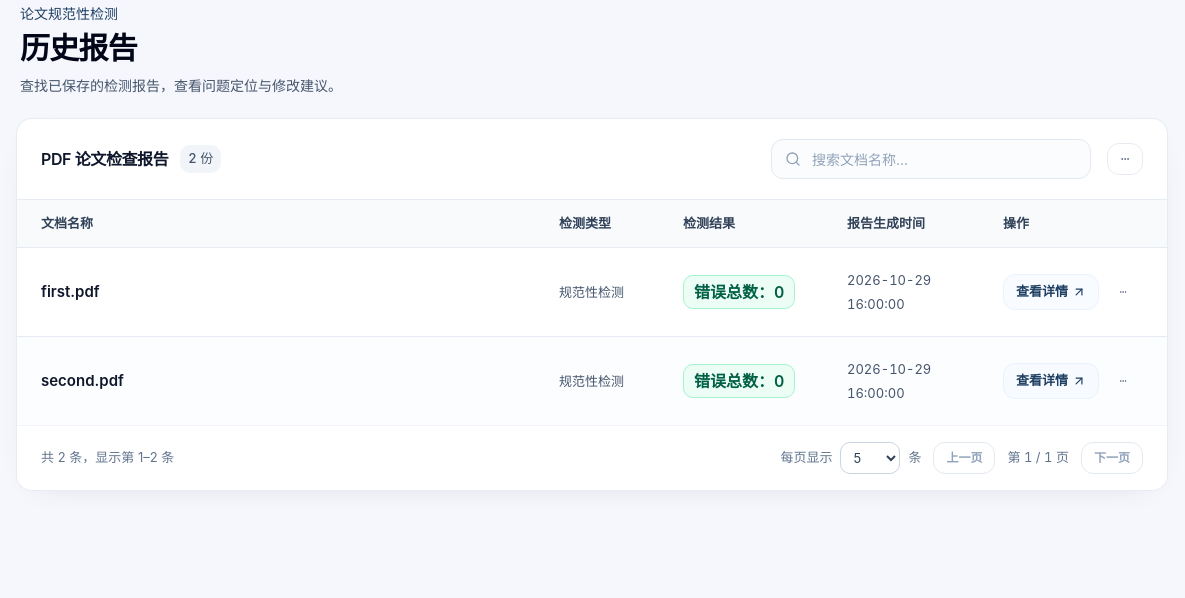
Scenario: deletes the selected reports as one confirmed batch
The width and height of the screenshot is (1185, 598).
expect the link "first.pdf" is shown: met, box [41,282,100,301]
Click the button named "报告管理" at x=1125, y=159, box [1107,143,1143,175]
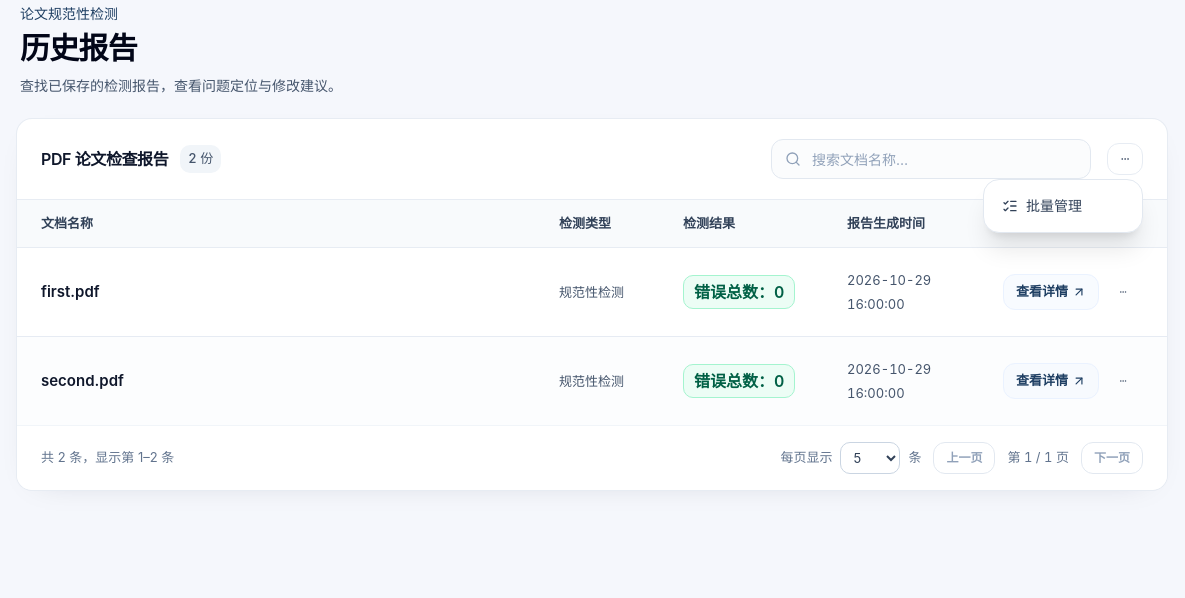
Click the menu item "批量管理" at x=1042, y=206, box [1002,197,1082,214]
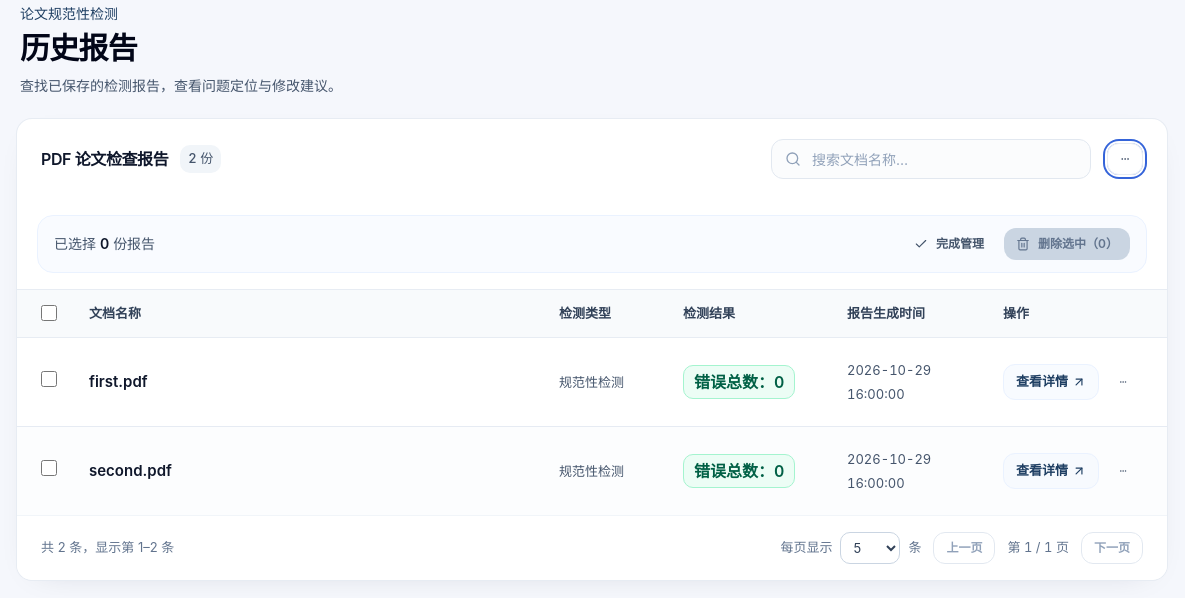
Click the checkbox named "全选报告" at x=49, y=313, box [41,305,57,321]
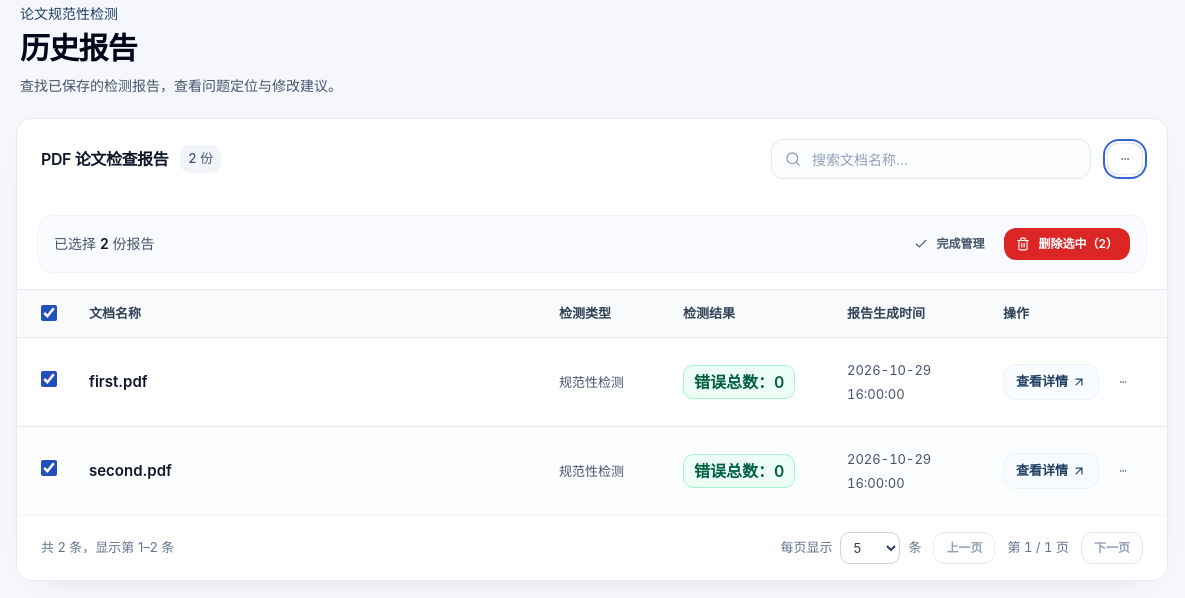
Click the button "删除选中（2）" at x=1067, y=244, box [1004,228,1130,260]
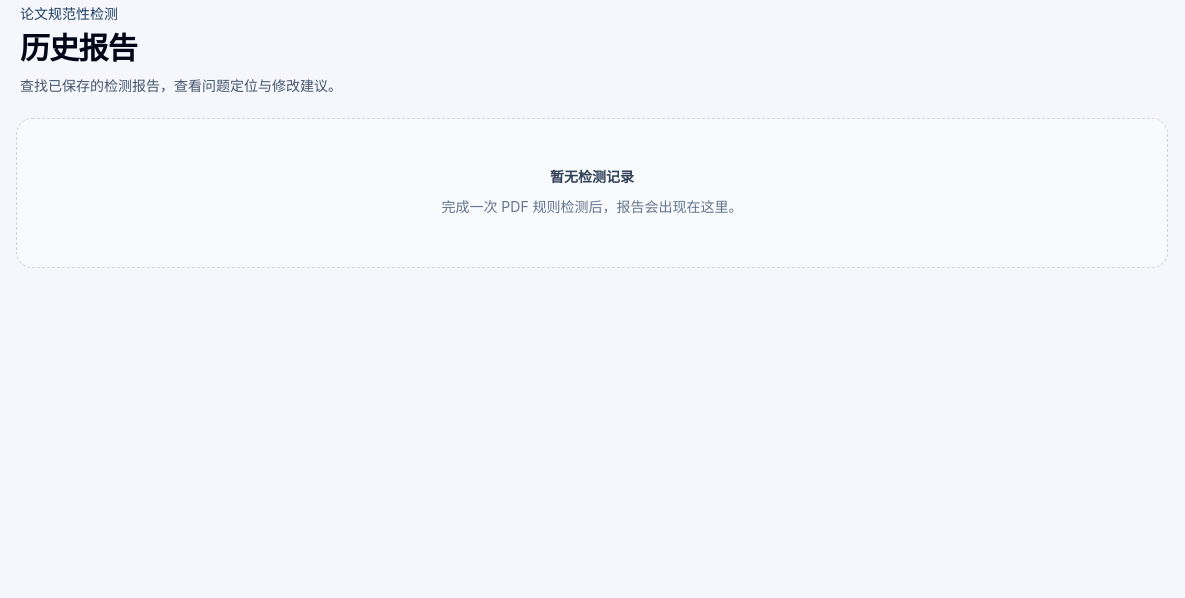
expect the text "暂无检测记录" is shown: met, box [550,167,634,187]
